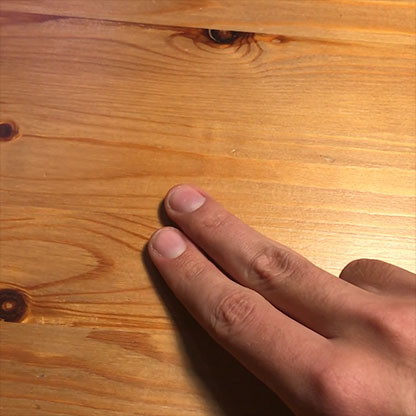fingertip: (161, 175, 214, 225), (143, 221, 191, 268)
